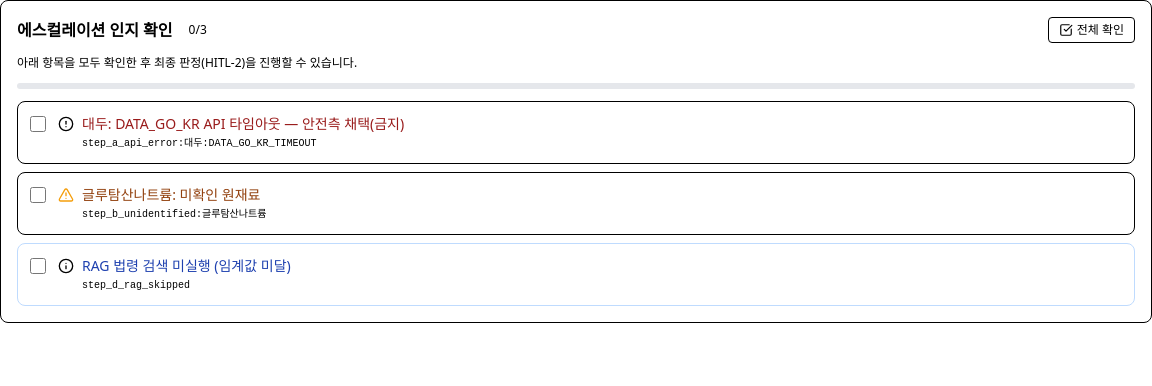
EscalationAckList › 모두 체크 시 '전체 확인' 버튼이 사라지고 완료 메시지가 표시된다
Click the button with test id "check-all-button": x=1091, y=30 top-left (1048, 17), bottom-right (1135, 43)
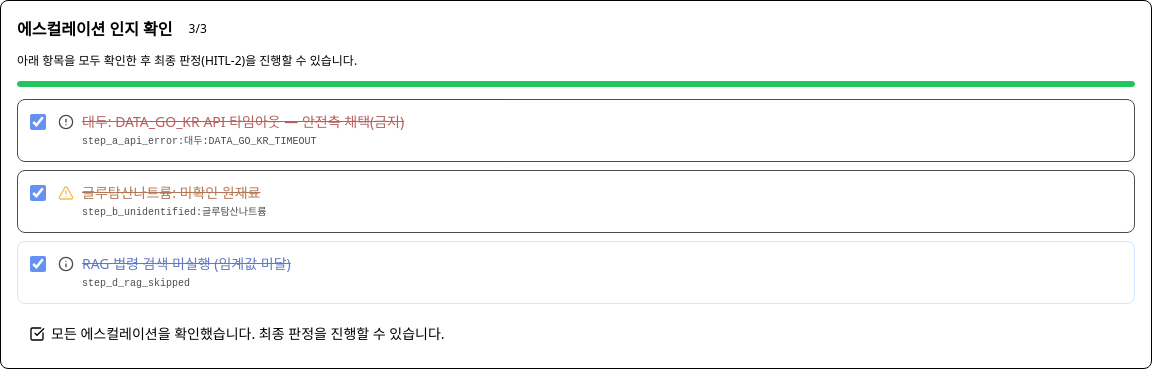
Expected: the button with test id "check-all-button" is gone
Expected: the text "모든 에스컬레이션을 확인했습니다. 최종 판정을 진행할 수 있습니다." is shown, top-left (29, 324), bottom-right (445, 343)
